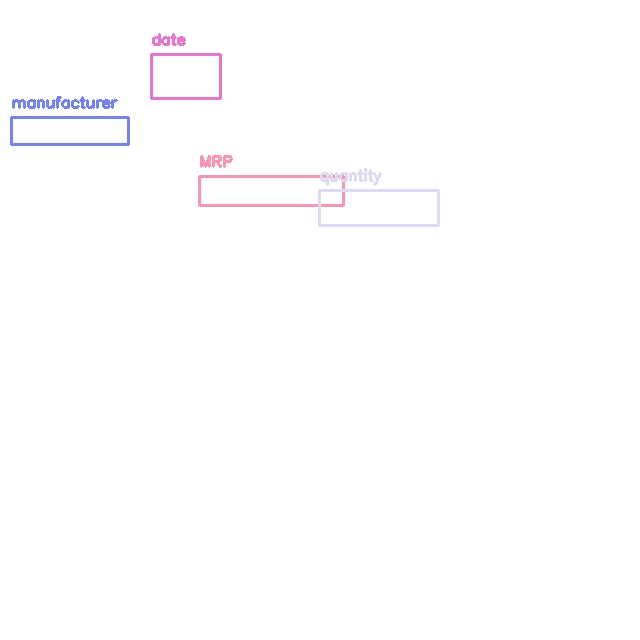MRP: (199, 176, 343, 205)
date: (151, 54, 220, 98)
manufacturer: (11, 117, 128, 144)
quantity: (319, 190, 438, 225)
